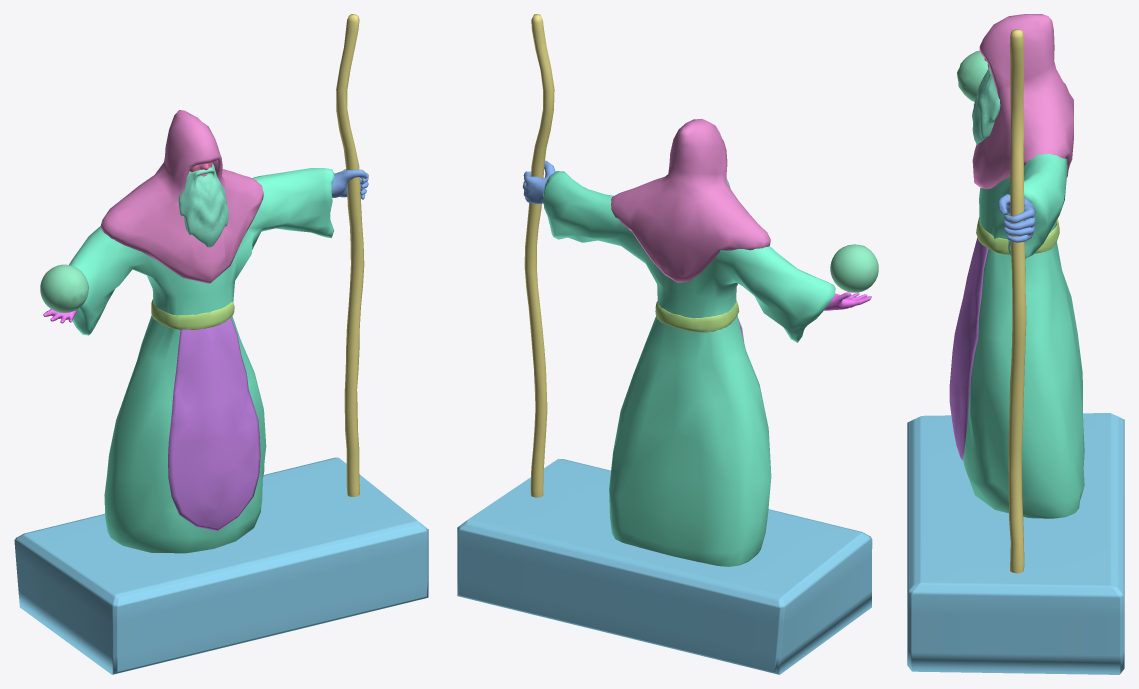
The picture shows the model from 3 angles, left to right: view 1: azimuth 30°, elevation 25°; view 2: azimuth 150°, elevation 25°; view 3: azimuth 270°, elevation 25°; orthographic projection. The views are drawn at different scales.
Parts seen in each view (by area): view 1: PM3D_Cube3D_4, Extract3_1, Extract11_01, PM3D_Sphere3D_3, PM3D_Cylinder3D1_1, Extract1_3, PM3D_Sphere3D_6, Extract9_2, Skin_main1_2; view 2: PM3D_Cube3D_4, Extract3_1, PM3D_Sphere3D_3, PM3D_Cylinder3D1_1, PM3D_Sphere3D_6, Extract9_2, Skin_main1_2; view 3: PM3D_Cube3D_4, Extract3_1, PM3D_Sphere3D_3, PM3D_Cylinder3D1_1, Extract11_01, Extract1_3, Skin_main1_2, PM3D_Sphere3D_6, Extract9_2.
Part boxes in pixels (box(x1,y1,x2,y2)): PM3D_Cube3D_4: box(14, 457, 428, 674); Extract3_1: box(69, 168, 334, 553); Extract11_01: box(168, 317, 260, 531); PM3D_Sphere3D_3: box(100, 110, 263, 283); PM3D_Cylinder3D1_1: box(336, 14, 364, 496); Extract1_3: box(178, 163, 228, 247); PM3D_Sphere3D_6: box(40, 264, 88, 312); Extract9_2: box(151, 299, 234, 329); Skin_main1_2: box(331, 169, 368, 199); PM3D_Cube3D_4: box(457, 458, 872, 674); Extract3_1: box(543, 171, 835, 566); PM3D_Sphere3D_3: box(611, 119, 770, 282); PM3D_Cylinder3D1_1: box(524, 14, 554, 497); PM3D_Sphere3D_6: box(830, 244, 878, 292); Extract9_2: box(655, 300, 739, 332); Skin_main1_2: box(522, 160, 555, 203); PM3D_Cube3D_4: box(907, 413, 1124, 674); Extract3_1: box(963, 153, 1084, 518); PM3D_Sphere3D_3: box(972, 14, 1073, 189); PM3D_Cylinder3D1_1: box(1008, 29, 1026, 573); Extract11_01: box(949, 237, 988, 460); Extract1_3: box(972, 64, 1000, 145); Skin_main1_2: box(998, 194, 1035, 242); PM3D_Sphere3D_6: box(957, 50, 988, 101); Extract9_2: box(976, 217, 1059, 254).
Size of the model in its own units: 1.35 by 2 by 0.6304.
